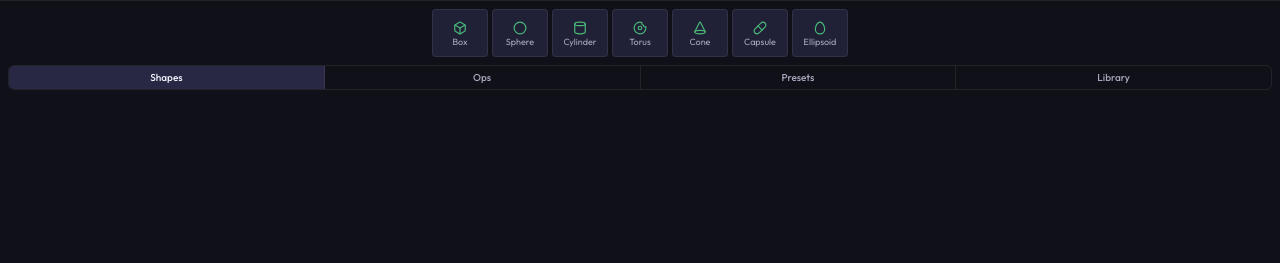
Scenario: PartsPalette personal library › embeds project components in the document and restores them
Click the tab "Library" at (1114, 78), box x1=956 y1=66 x2=1271 y2=89
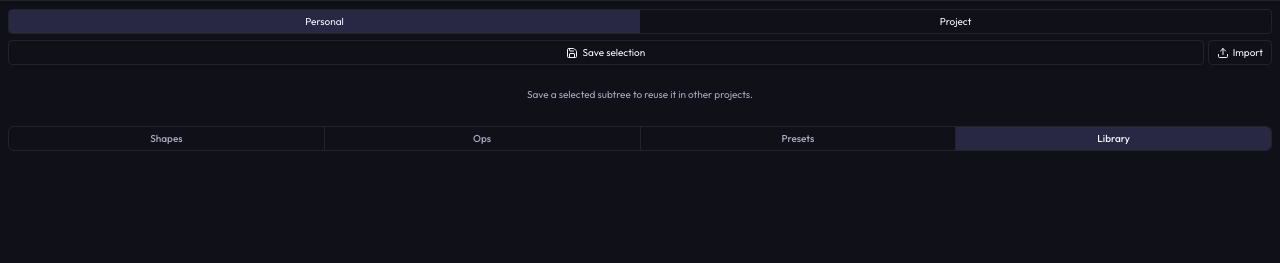
Click the button "project" at (956, 22), box x1=640 y1=10 x2=1271 y2=33
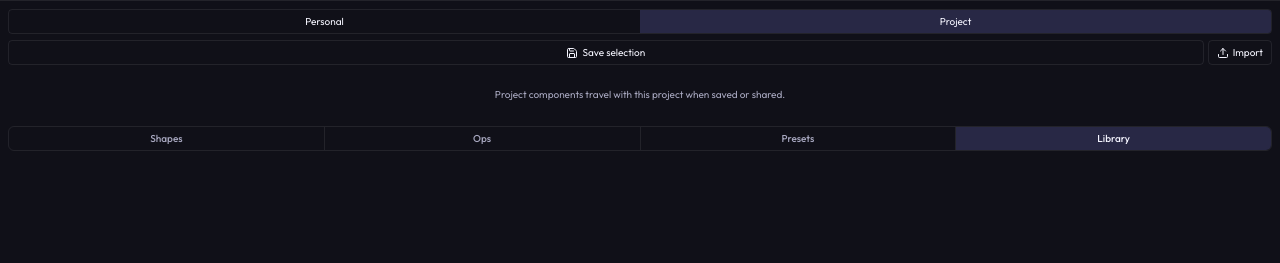
Click the button "Save selection" at (606, 52), box x1=8 y1=40 x2=1204 y2=65
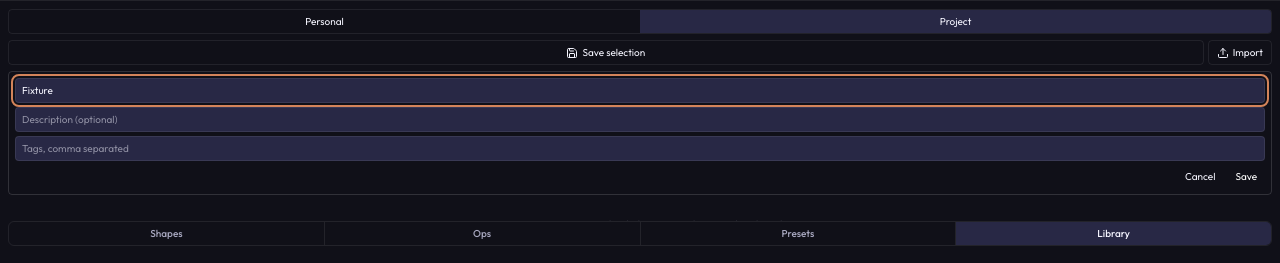
Replace the text in the field named "Component name" with "Project fixture" at (640, 90), box x1=15 y1=78 x2=1265 y2=103
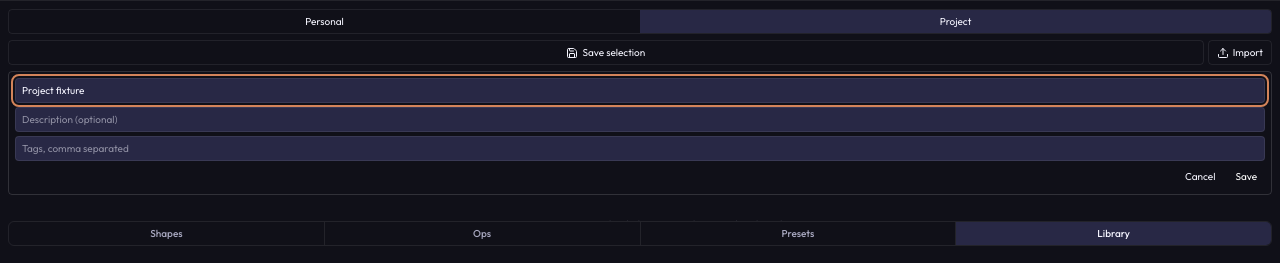
Click the button "Save" at (1246, 176), box x1=1227 y1=165 x2=1265 y2=188
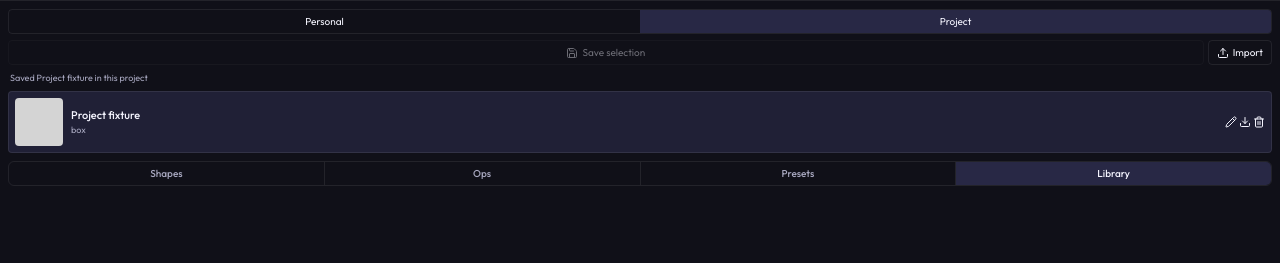
Result: the text "Project fixture" is shown at x1=71 y1=106 x2=140 y2=123
